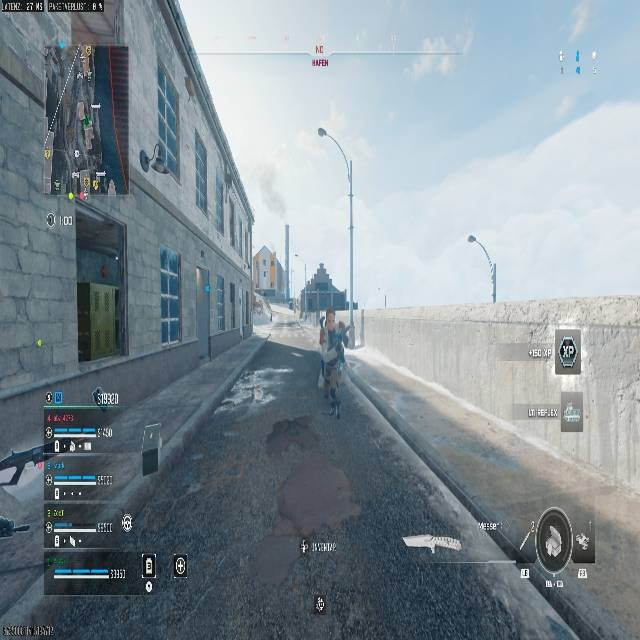head: (312, 265, 332, 284)
player: (299, 266, 350, 406), (319, 319, 350, 418), (299, 266, 348, 326)
